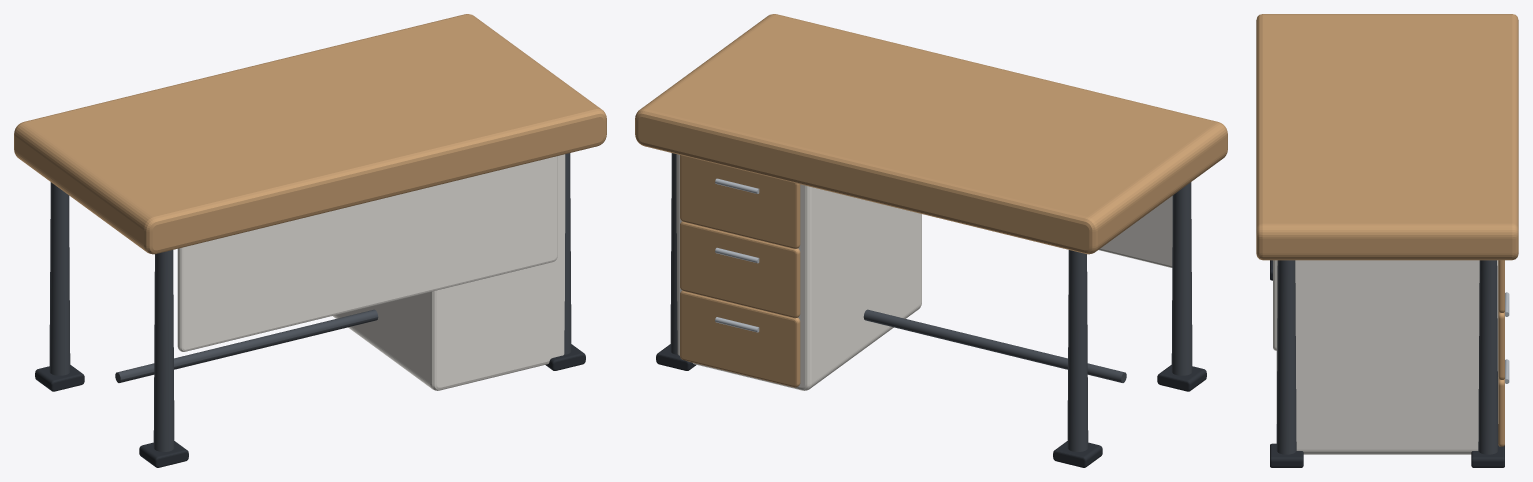
File: office_desk.glb
3 renders of one model, left to right at view 1: azimuth 30°, elevation 25°; view 2: azimuth 150°, elevation 25°; view 3: azimuth 270°, elevation 25°, orthographic. The views are drawn at different scales.
Visible parts, largest first — view 1: office_desk_refined; view 2: office_desk_refined; view 3: office_desk_refined.
Boxes of the visible parts, left/top/right/bottom form: office_desk_refined: left=14, top=14, right=606, bottom=467; office_desk_refined: left=635, top=14, right=1227, bottom=467; office_desk_refined: left=1256, top=14, right=1518, bottom=467.
Size of the model in its own units: 1.54 by 0.8153 by 0.78.
